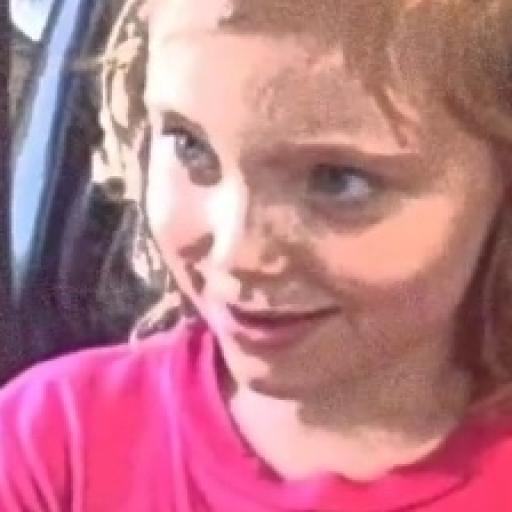Autism: (95, 0, 512, 508)
